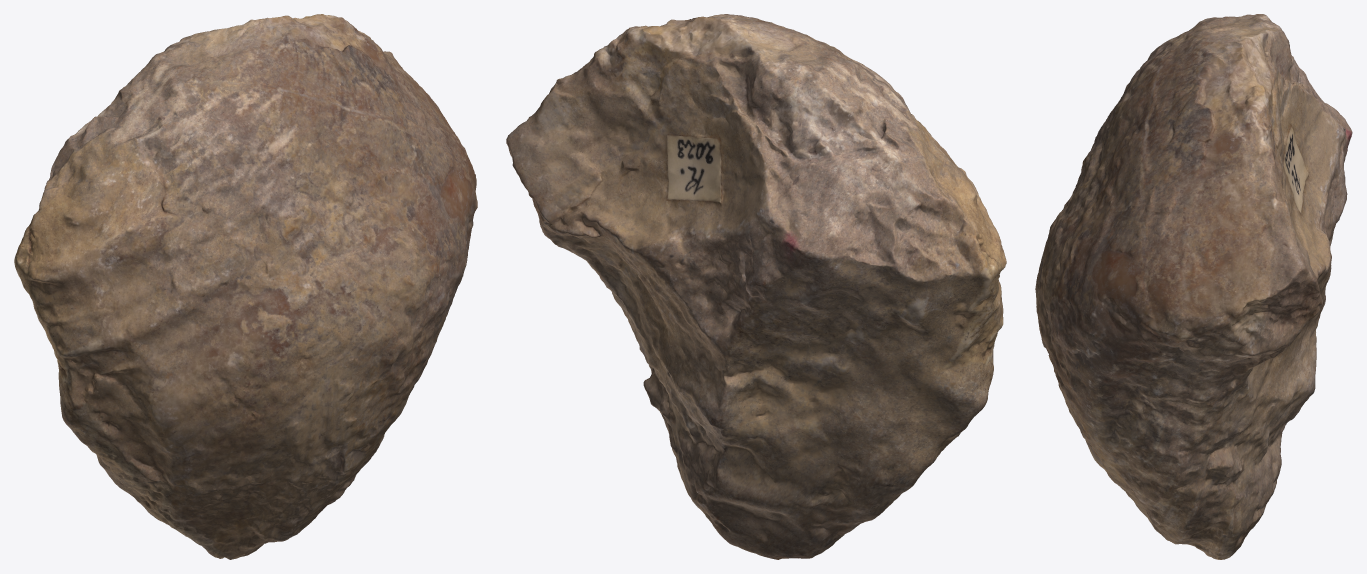
The model's file is EWS0016500.glb.
3 renders of one model, left to right at view 1: azimuth 30°, elevation 25°; view 2: azimuth 150°, elevation 25°; view 3: azimuth 270°, elevation 25°, orthographic. The views are drawn at different scales.
Parts seen in each view (by area): view 1: input; view 2: input; view 3: input.
Boxes of the visible parts, x1,y1,x2,y2 form: input: (14,14,477,559); input: (506,14,1006,559); input: (1035,14,1352,559).
Size of the model in its own units: 0.0927 by 0.1036 by 0.0564.
Materials: 1 (1 with a texture image).
